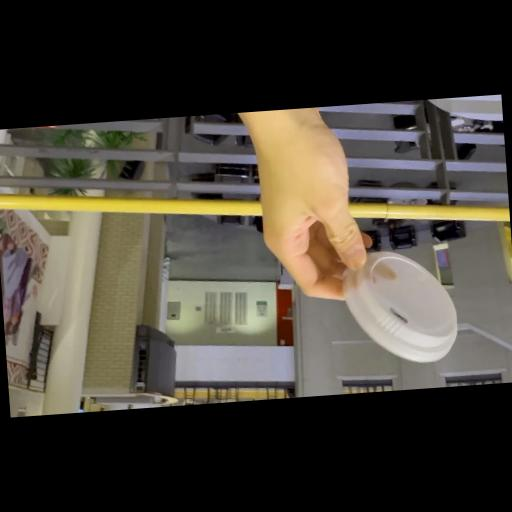lp_cup_lids: (330, 244, 468, 372)
